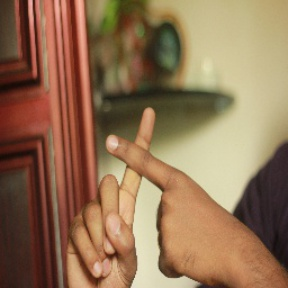X: (81, 94, 203, 219)
